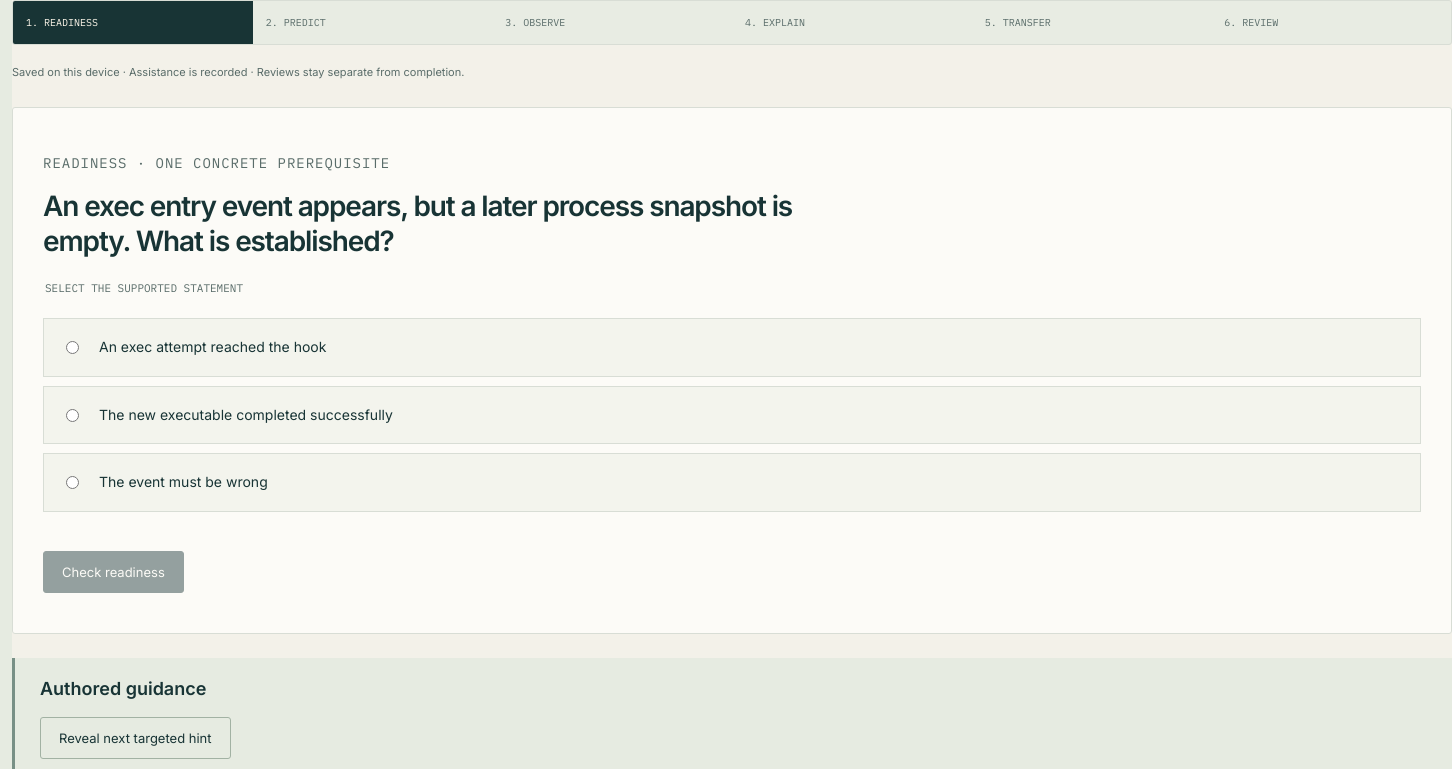
Test: requires a correct readiness response and preserves wrong attempts
Step 1. Click the radio button labelled "The new executable completed successfully" → (72, 415), box [66,409,79,422]
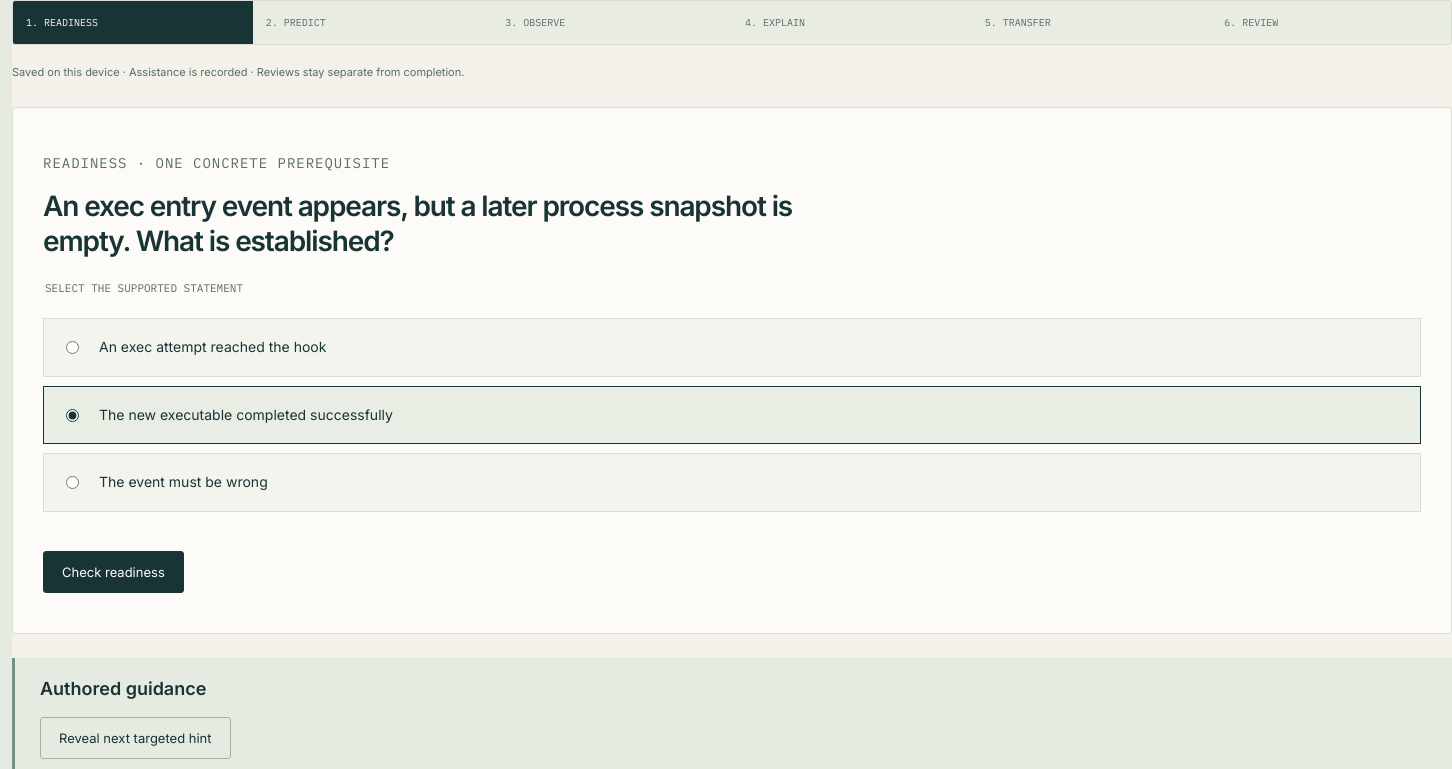
Step 2. Click the button "Check readiness" → (113, 572), box [43,551,184,593]
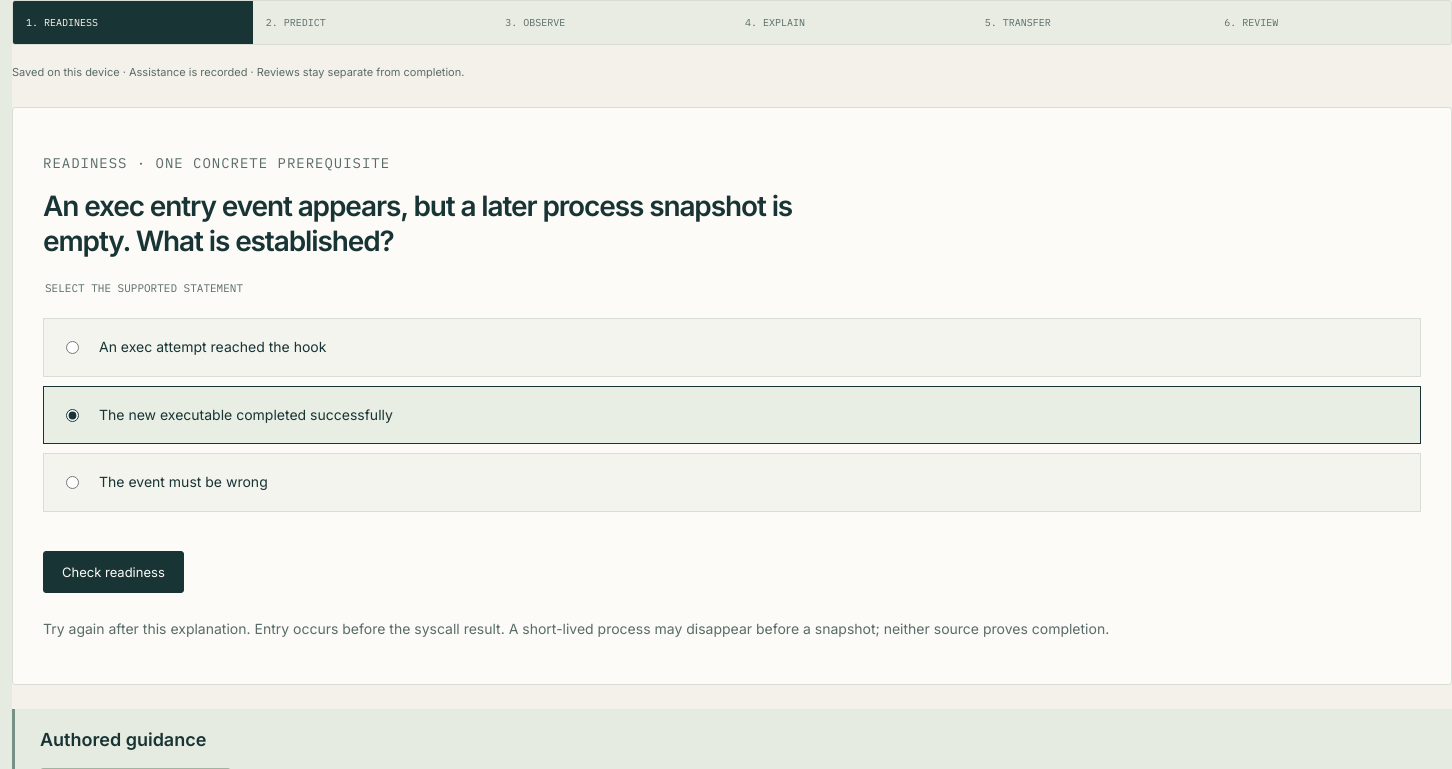
Check: the text "Build a prediction" is not shown
Step 3. Click the radio button labelled "An exec attempt reached the hook" → (72, 348), box [66,342,79,354]
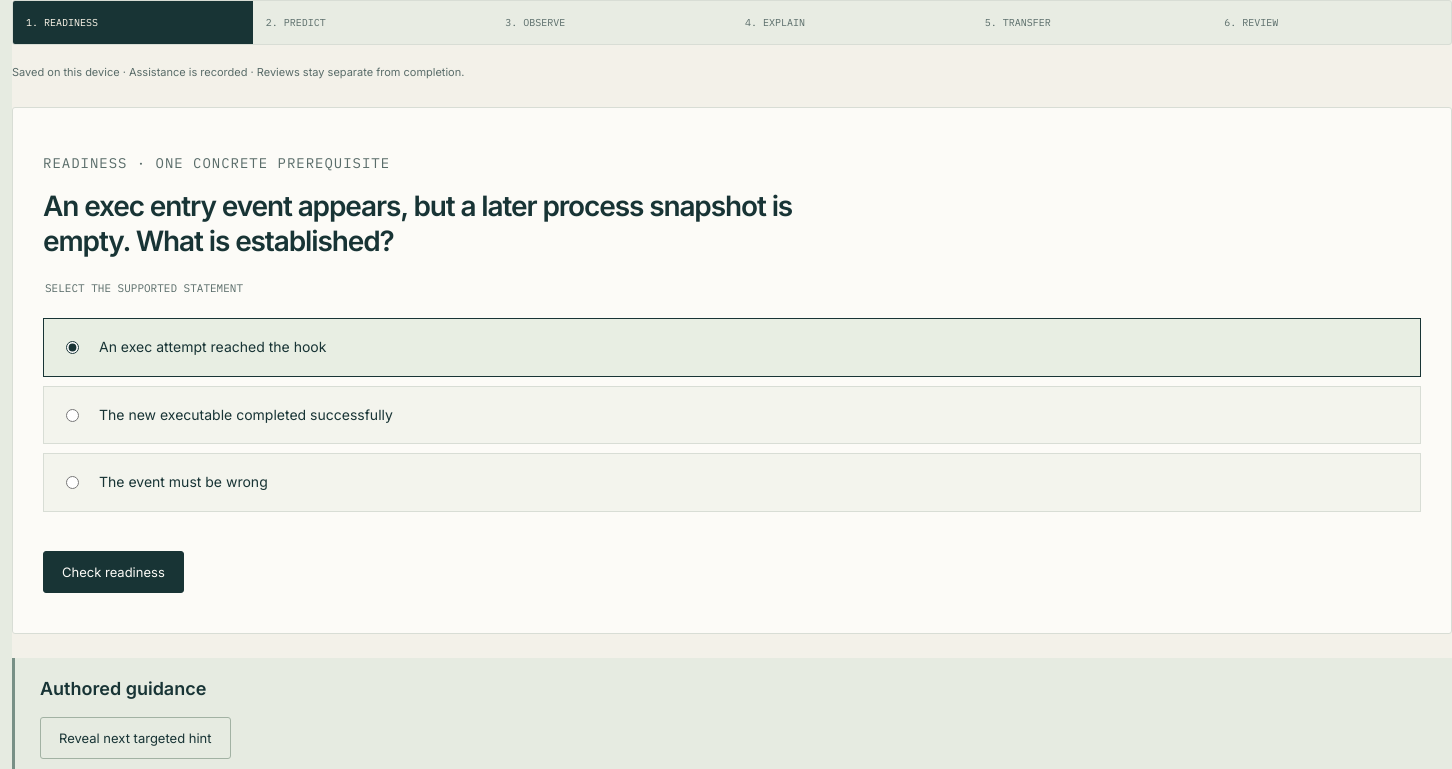
Step 4. Click the button "Check readiness" → (113, 572), box [43,551,184,593]
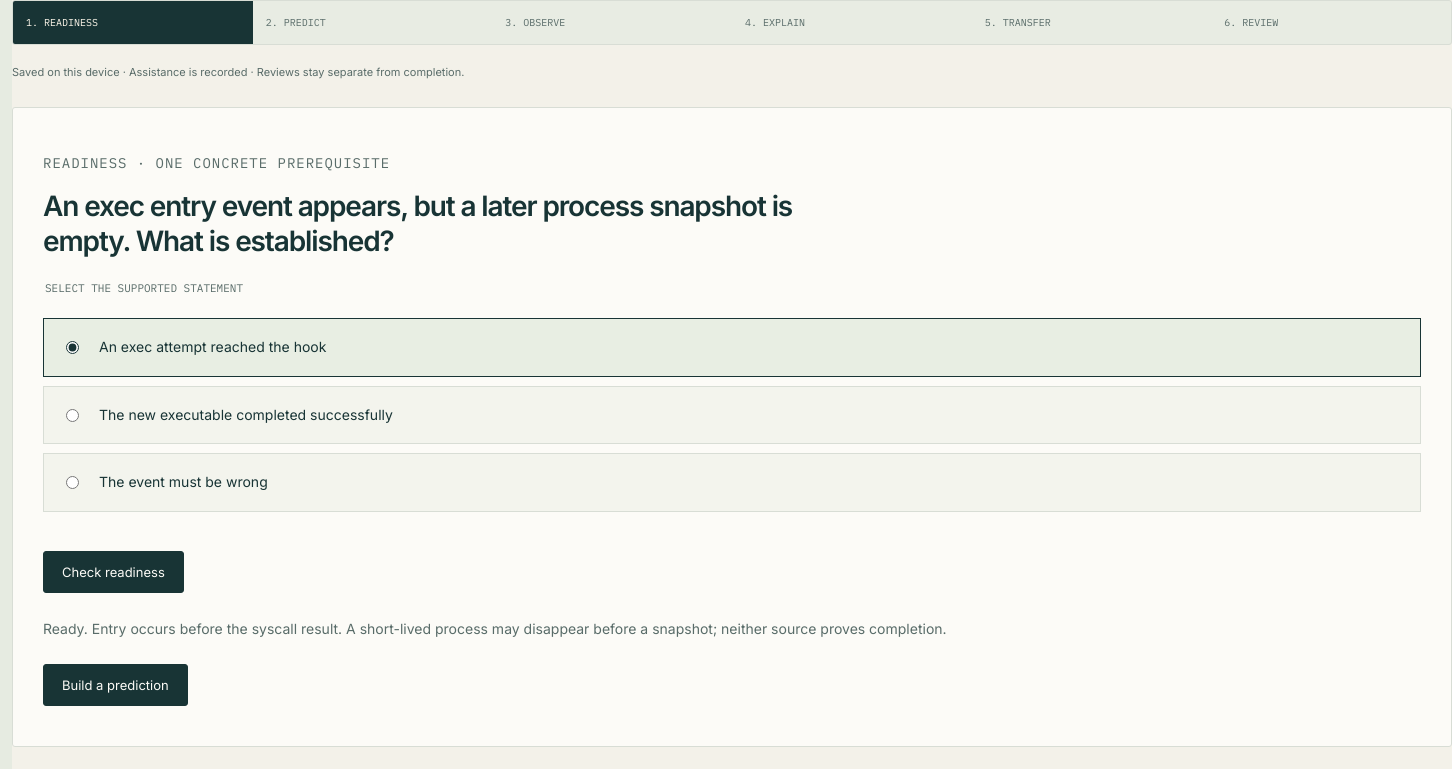
Step 5. Click the button "Build a prediction" → (115, 686), box [43,664,188,706]
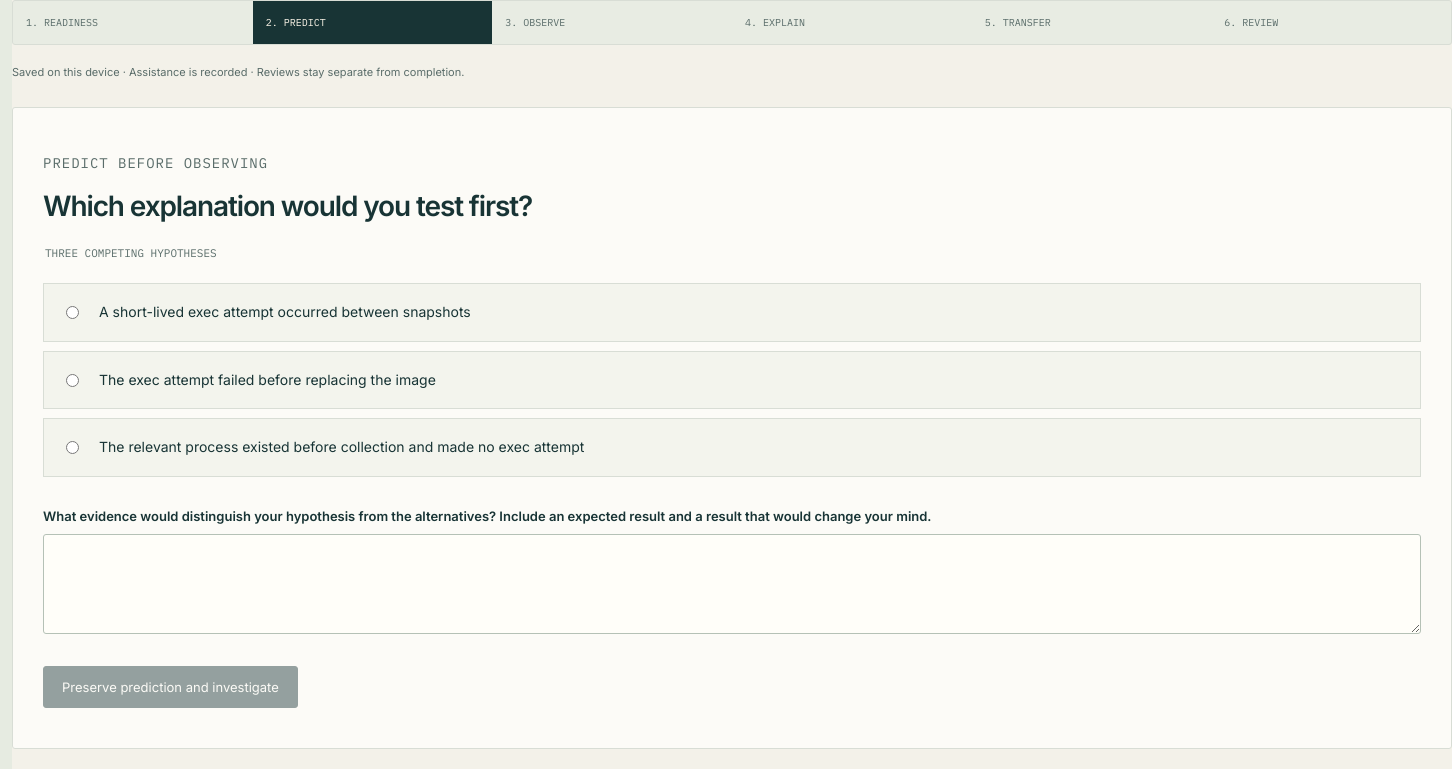
Check: the text "Three competing hypotheses" is shown, box [43,246,219,260]
